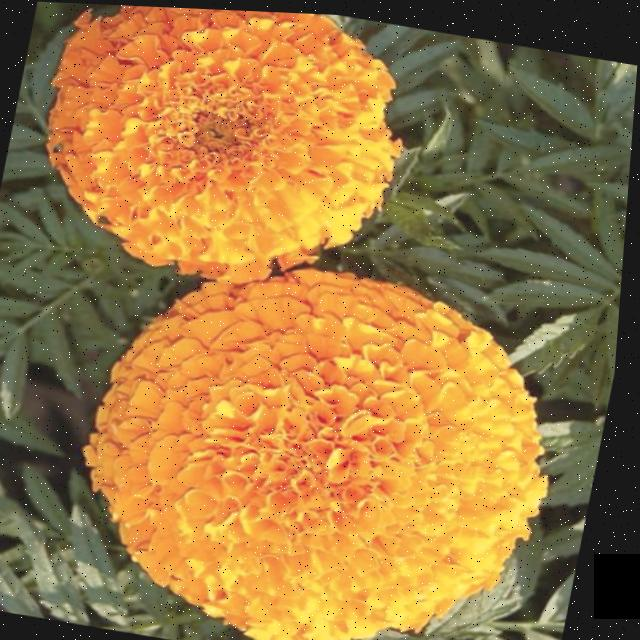marigold: (0, 1, 640, 640)
